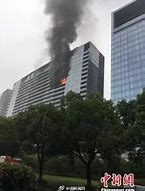smoke: (42, 1, 85, 81)
